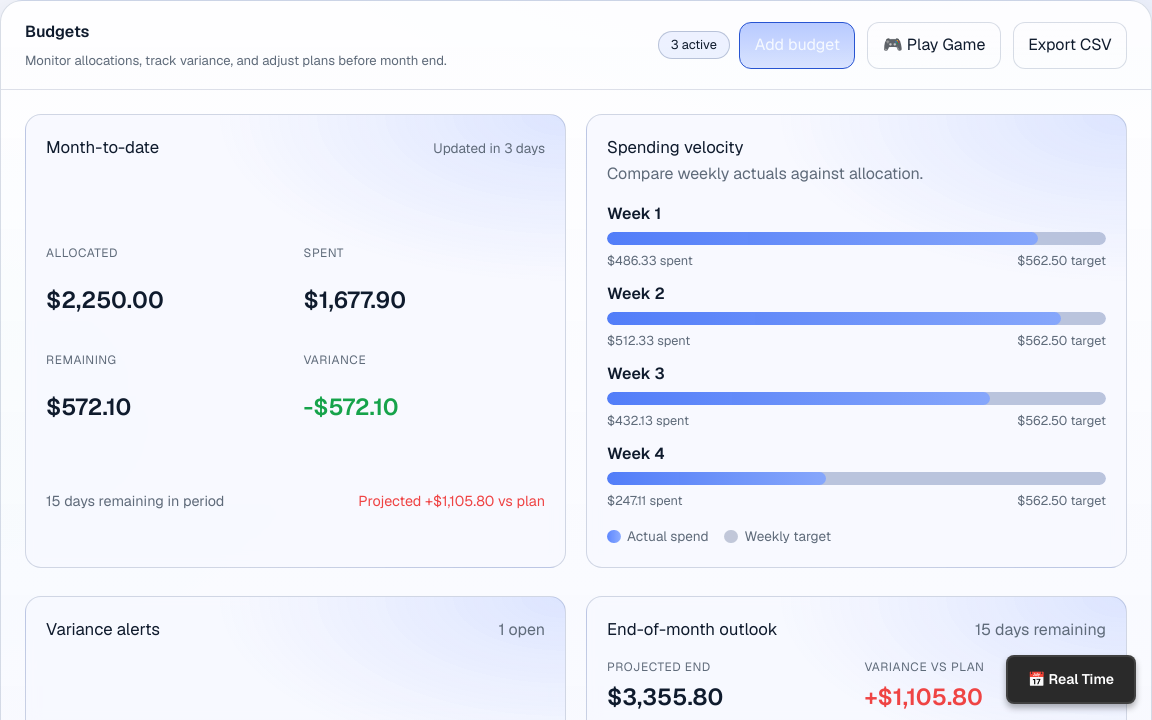
Test case: BudgetsSection › opens the create budget modal from the CTA
What coordinates should you click on to do the following:
click the button "Add budget"
I would click on:
 (797, 45)
Its box is [739,22,855,69].
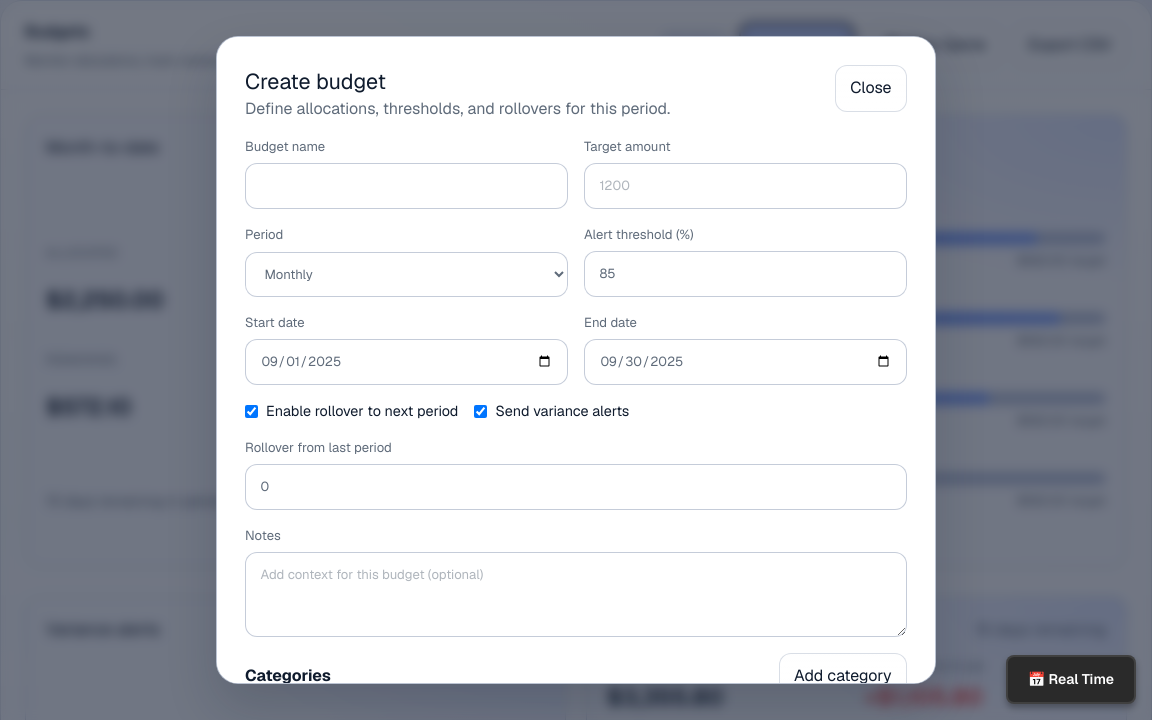
Expected: the heading "Create budget" is shown, [245,67,386,95]
